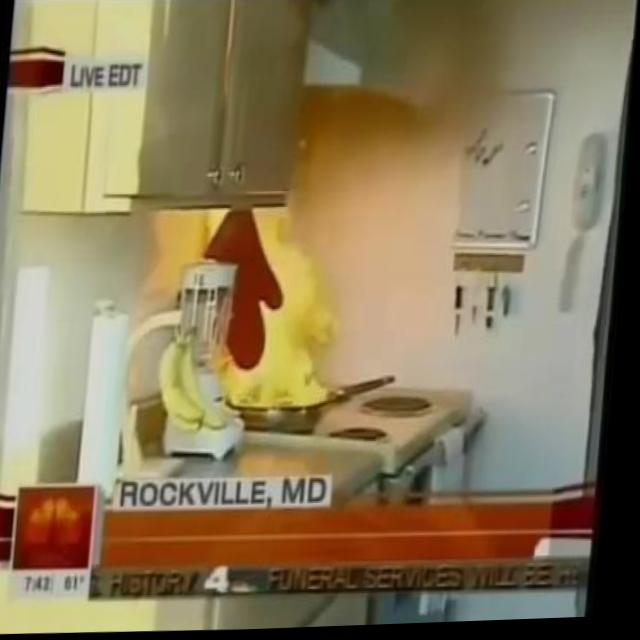fire: (192, 204, 353, 416)
